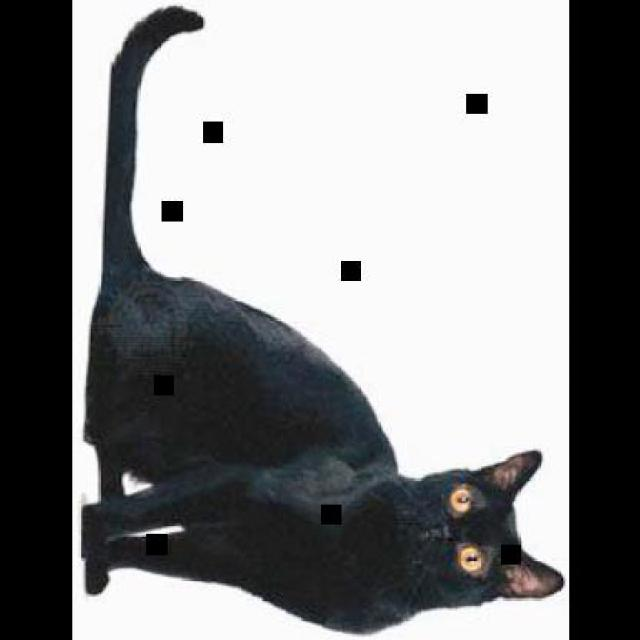unauthorized: (79, 3, 563, 635)
